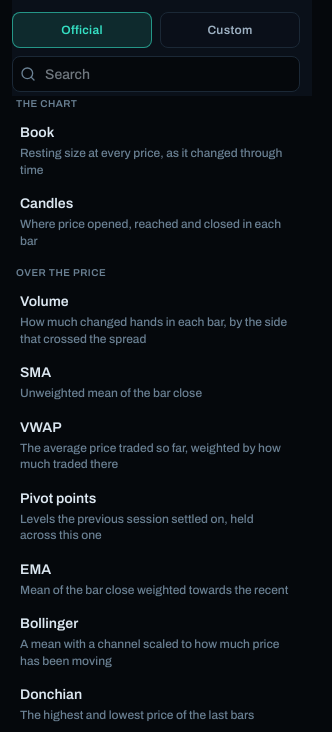
Test: IndicatorPalette › finds an indicator by what it does, not only by its name
Type "overbought" into the search field at (156, 74), box [12,56,300,92]
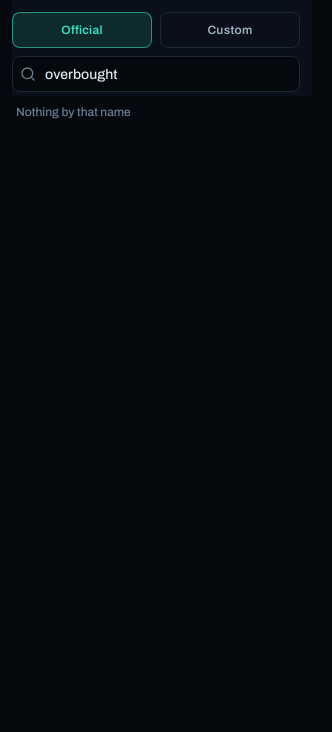
Result: the text "Nothing by that name" is shown at [16,105,131,119]
